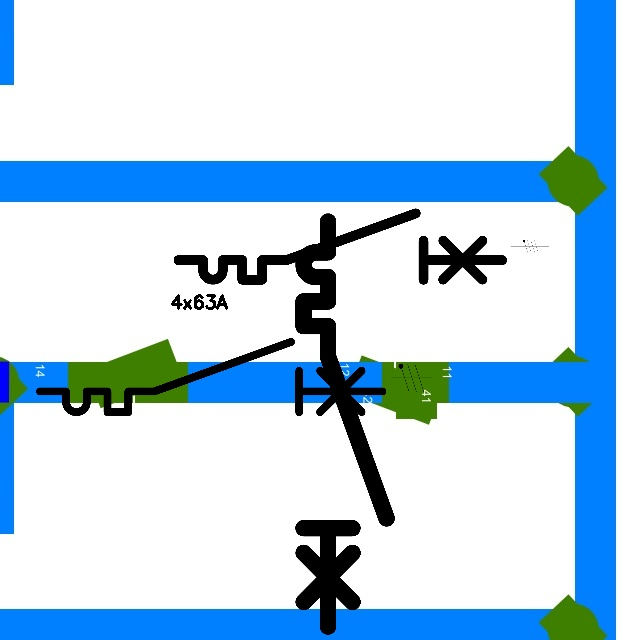interruptor_termomagnetico: (293, 211, 397, 637), (31, 333, 391, 421), (170, 205, 510, 288)
